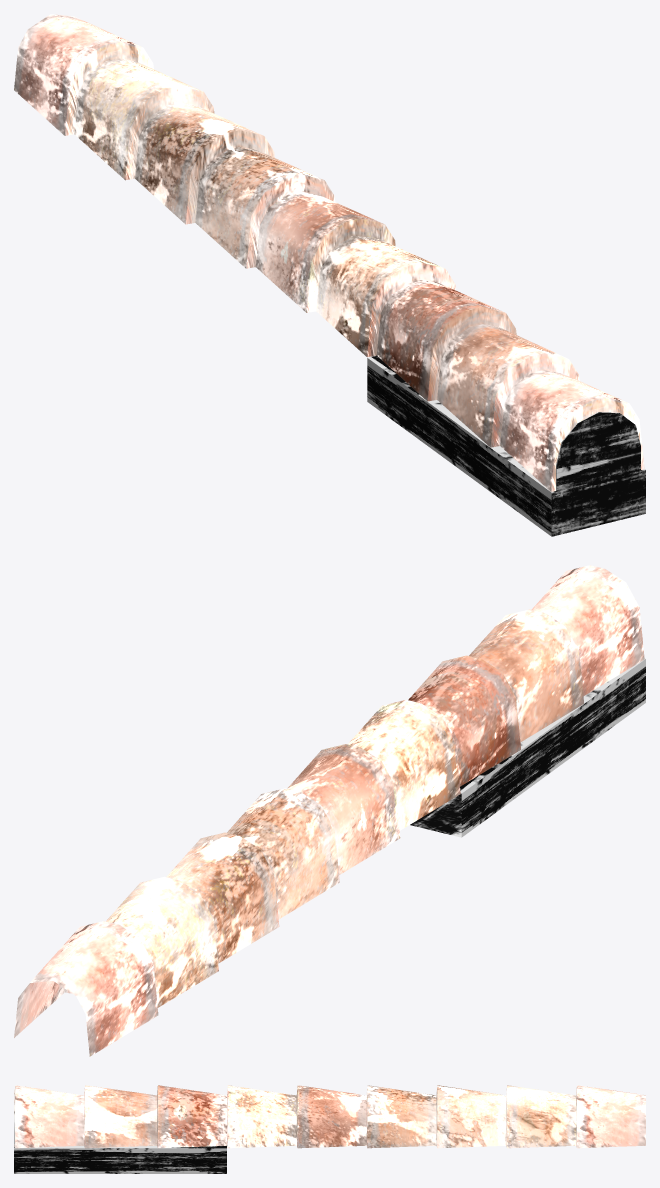
Rendered from SM_roof_A_top_part_4_02.fbx.
3 views of the same model, one above another, from view 1: azimuth 30°, elevation 25°; view 2: azimuth 150°, elevation 25°; view 3: azimuth 270°, elevation 25° (orthographic). The views are drawn at different scales.
Parts seen in each view (by area): view 1: SM_roof_A_top_part_4_02_LOD0; view 2: SM_roof_A_top_part_4_02_LOD0; view 3: SM_roof_A_top_part_4_02_LOD0.
Part boxes in pixels (bbox=[...]): SM_roof_A_top_part_4_02_LOD0: bbox=[14, 14, 645, 536]; SM_roof_A_top_part_4_02_LOD0: bbox=[14, 565, 645, 1056]; SM_roof_A_top_part_4_02_LOD0: bbox=[14, 1085, 645, 1173].
Size of the model in its own units: 44.76 by 450 by 56.78.
Materials: 3 (3 with a texture image).
